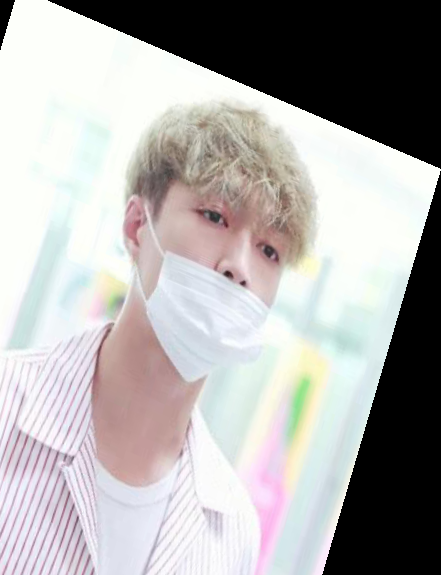mask_weared_incorrect: (111, 90, 345, 407)
